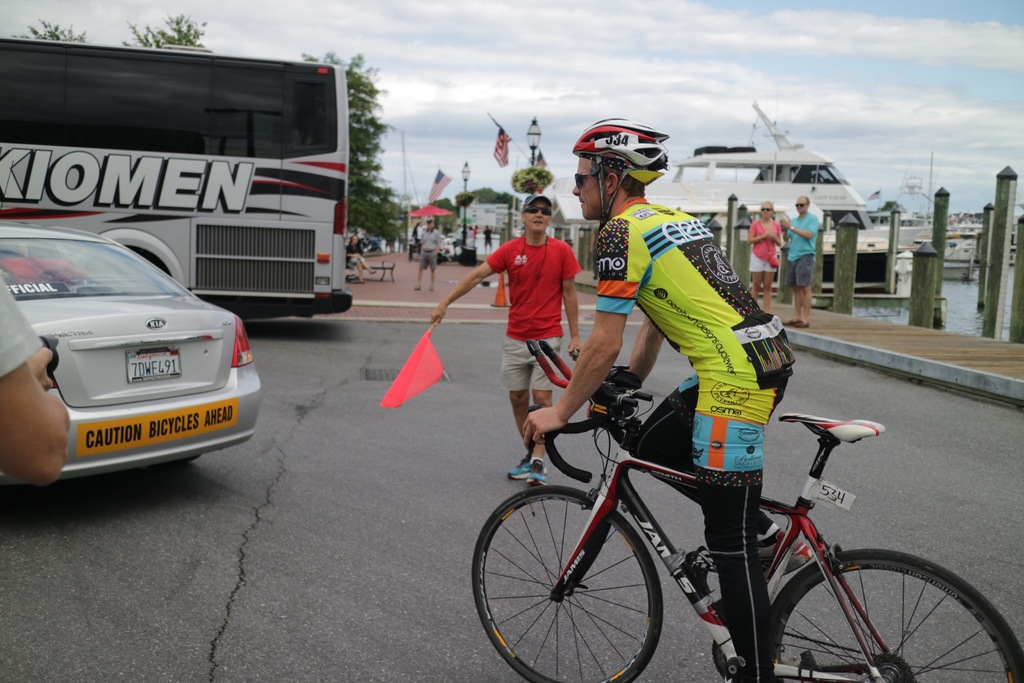license plate: (124, 351, 184, 379)
